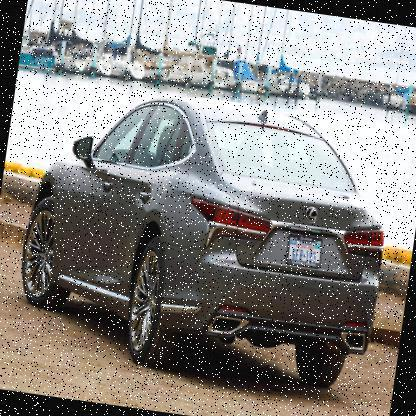License-Plate: (283, 229, 328, 272)
